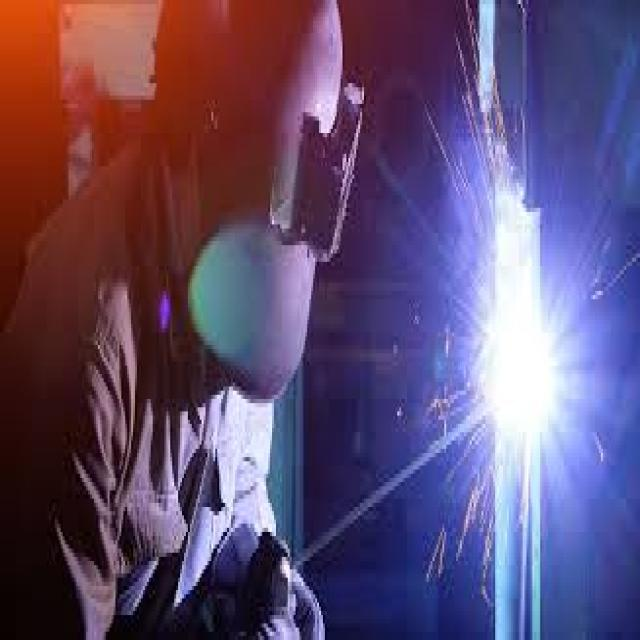welding: (488, 270, 558, 446)
